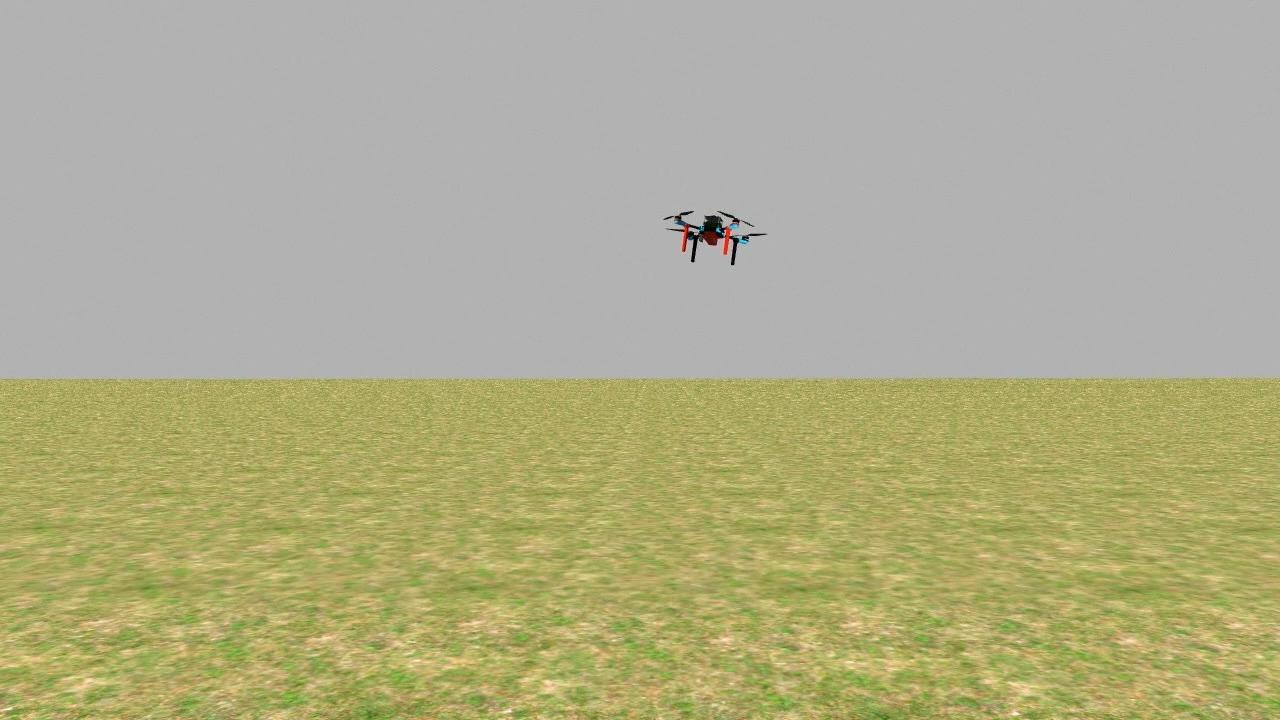UAV: (658, 193, 766, 268)
